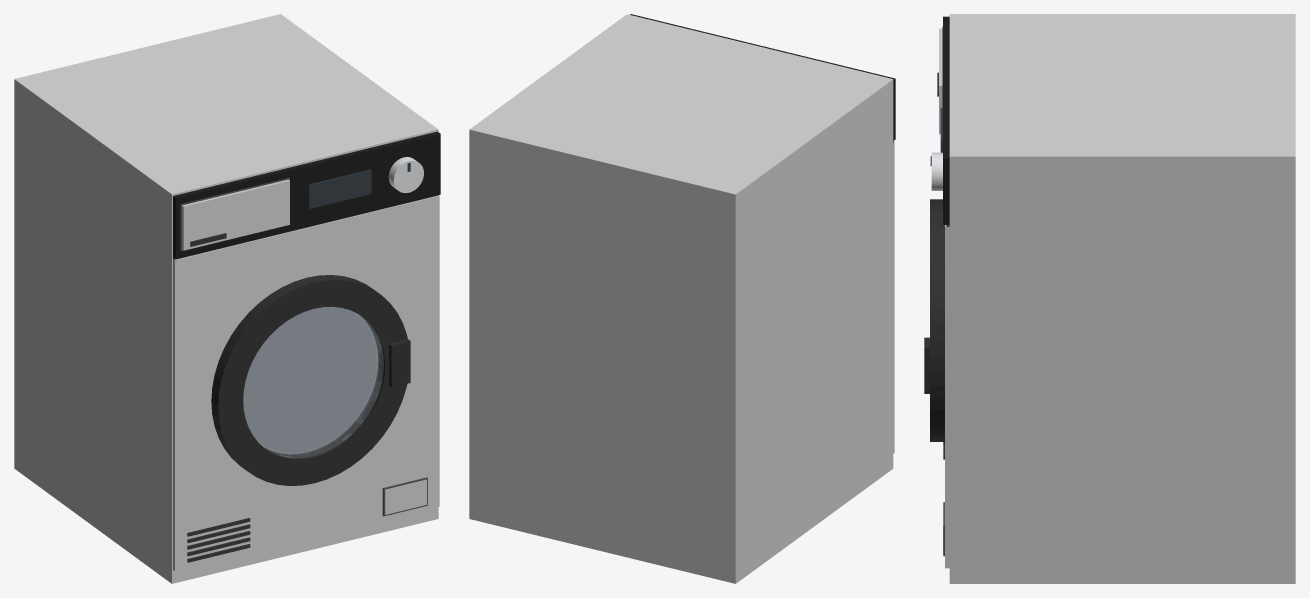
Rendered from trockner-edelstahl.glb.
3 views of the same model, side by side, from view 1: azimuth 30°, elevation 25°; view 2: azimuth 150°, elevation 25°; view 3: azimuth 270°, elevation 25° (orthographic). The views are drawn at different scales.
Parts seen in each view (by area): view 1: Gehäuse, Türring, Glas, Trommel, Bedienblende, Graphit, Display, Chrom, Fuge; view 2: Gehäuse, Bedienblende; view 3: Gehäuse, Türring, Bedienblende.
Boxes of the visible parts, box(x1,y1,x2,y2) form: Gehäuse: box(14, 14, 439, 583); Türring: box(211, 275, 410, 485); Glas: box(243, 306, 383, 457); Trommel: box(243, 307, 376, 451); Bedienblende: box(173, 131, 440, 258); Graphit: box(187, 233, 250, 562); Display: box(308, 163, 410, 208); Chrom: box(388, 157, 423, 193); Fuge: box(173, 177, 438, 516); Gehäuse: box(469, 14, 894, 583); Bedienblende: box(630, 14, 895, 140); Gehäuse: box(939, 14, 1295, 583); Türring: box(924, 199, 944, 441); Bedienblende: box(943, 16, 949, 224).
Size of the model in its own units: 0.6 by 0.85 by 0.66.
